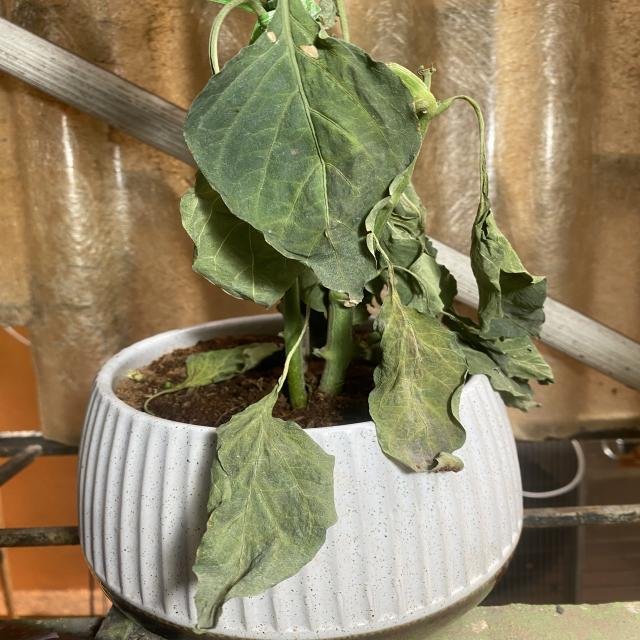Leaf: (183, 17, 419, 307), (190, 398, 339, 634), (366, 301, 472, 475)
